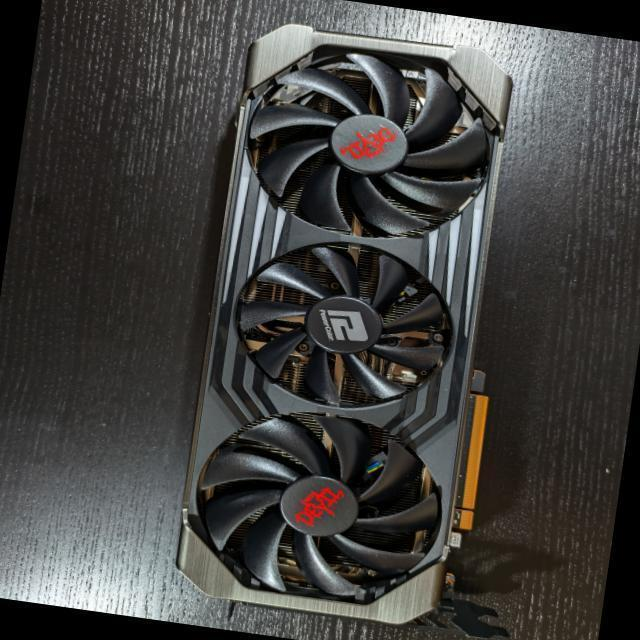GPU: (178, 25, 510, 623)
